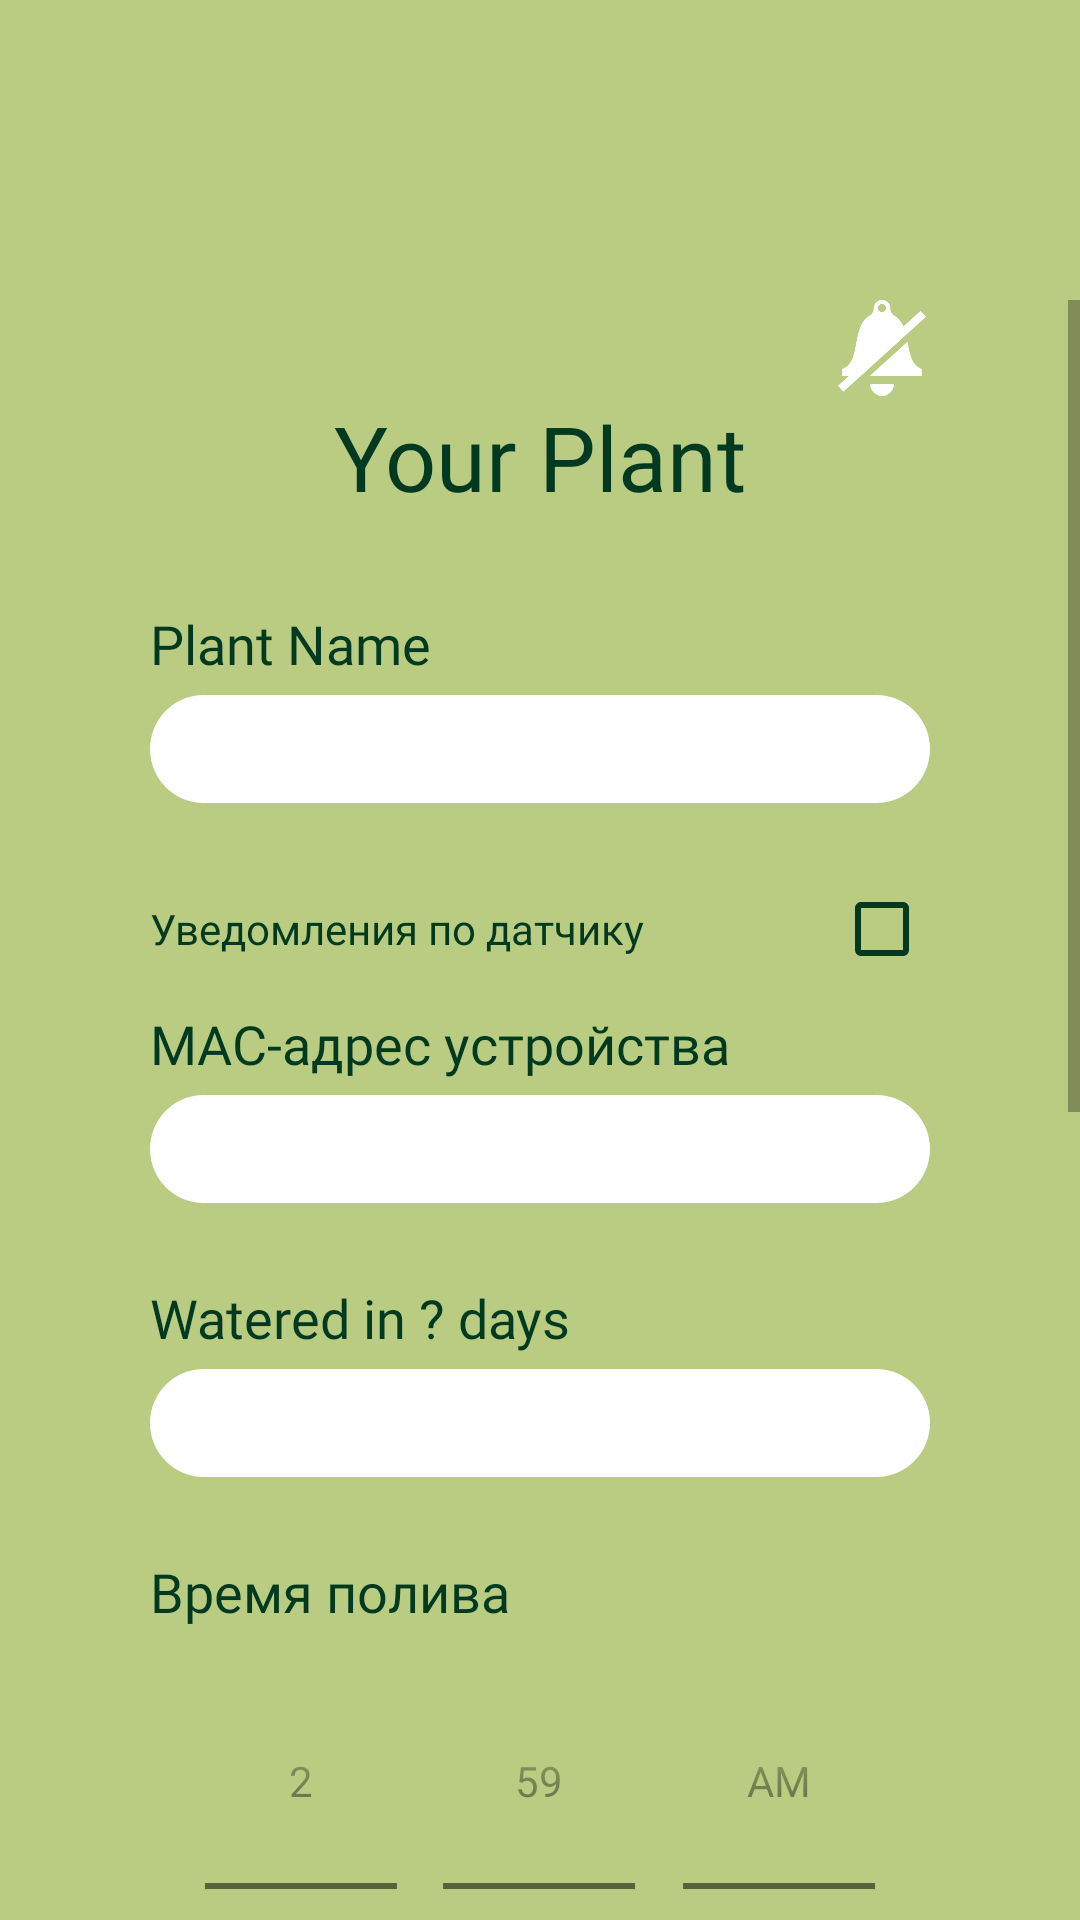

Named icons in this screenshot (1080x1920) and their centers, point (x, y):
notification off: point (882, 348)
